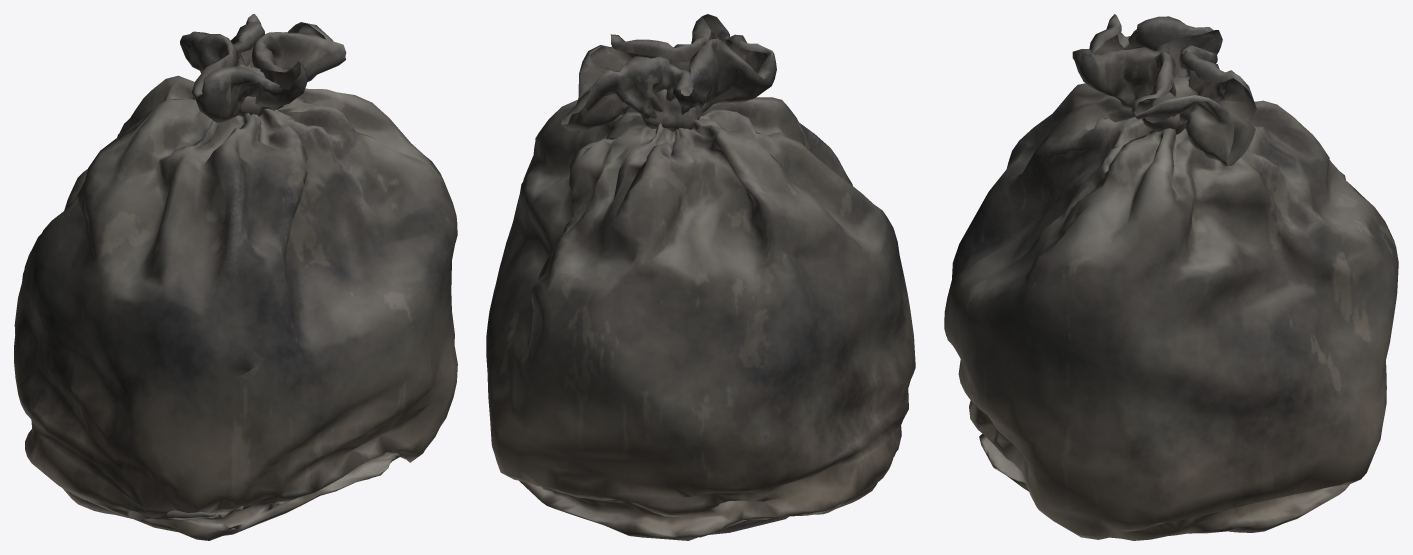
Rendered from SM_PL_Bags_BinBag50L_dirty.fbx.
3 renders of one model, left to right at view 1: azimuth 30°, elevation 25°; view 2: azimuth 150°, elevation 25°; view 3: azimuth 270°, elevation 25°, orthographic. The views are drawn at different scales.
Parts seen in each view (by area): view 1: SM_PL_Bags_BinBag50L_dirty; view 2: SM_PL_Bags_BinBag50L_dirty; view 3: SM_PL_Bags_BinBag50L_dirty.
Boxes of the visible parts, x1,y1,x2,y2 form: SM_PL_Bags_BinBag50L_dirty: (14,14,457,540); SM_PL_Bags_BinBag50L_dirty: (486,14,915,540); SM_PL_Bags_BinBag50L_dirty: (944,14,1398,540).
Bounding box in the file's own units: 0.3632 × 0.3926 × 0.3639.
1 material, 1 textured.
